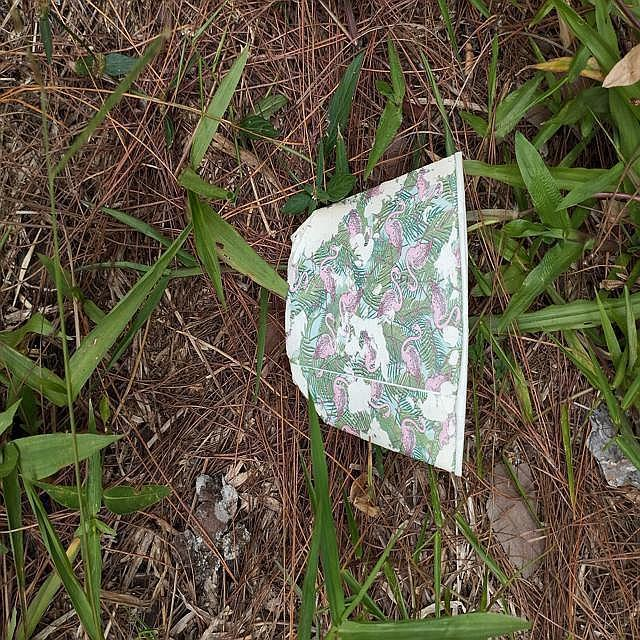Biodegradable: (288, 154, 470, 483)
